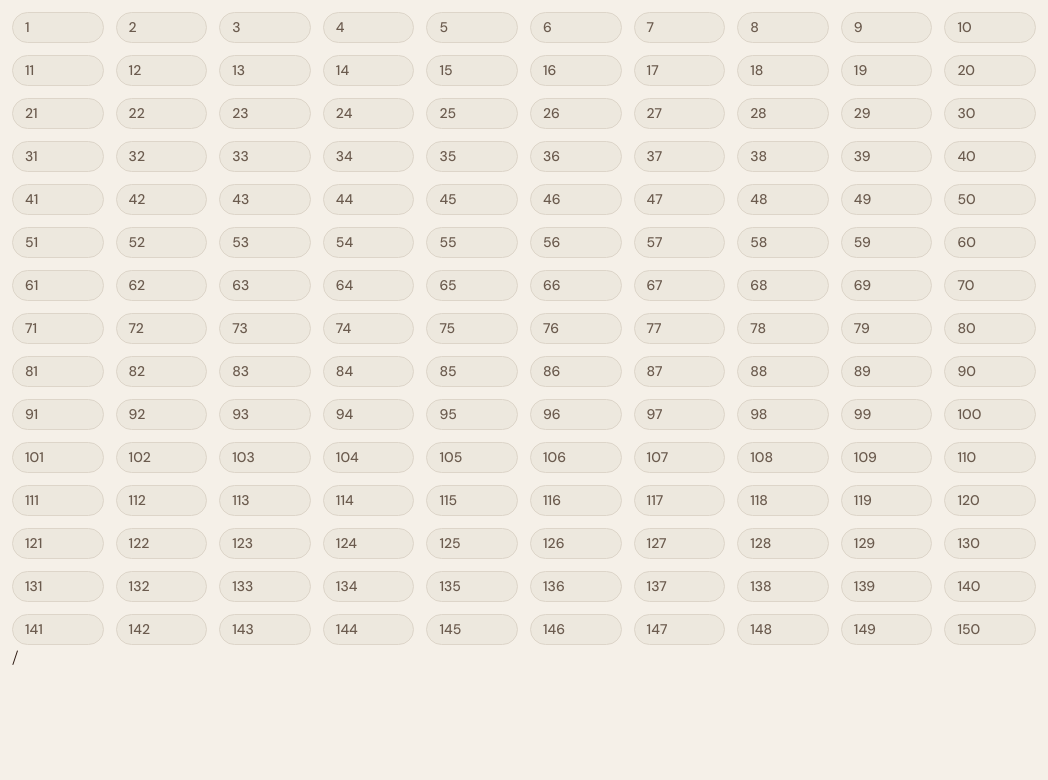
ChapterGrid › clicking a chapter button navigates to /:bookId/:chapter
Click the cell with test id "chapter-btn-23" at (265, 114), box [219, 98, 311, 129]
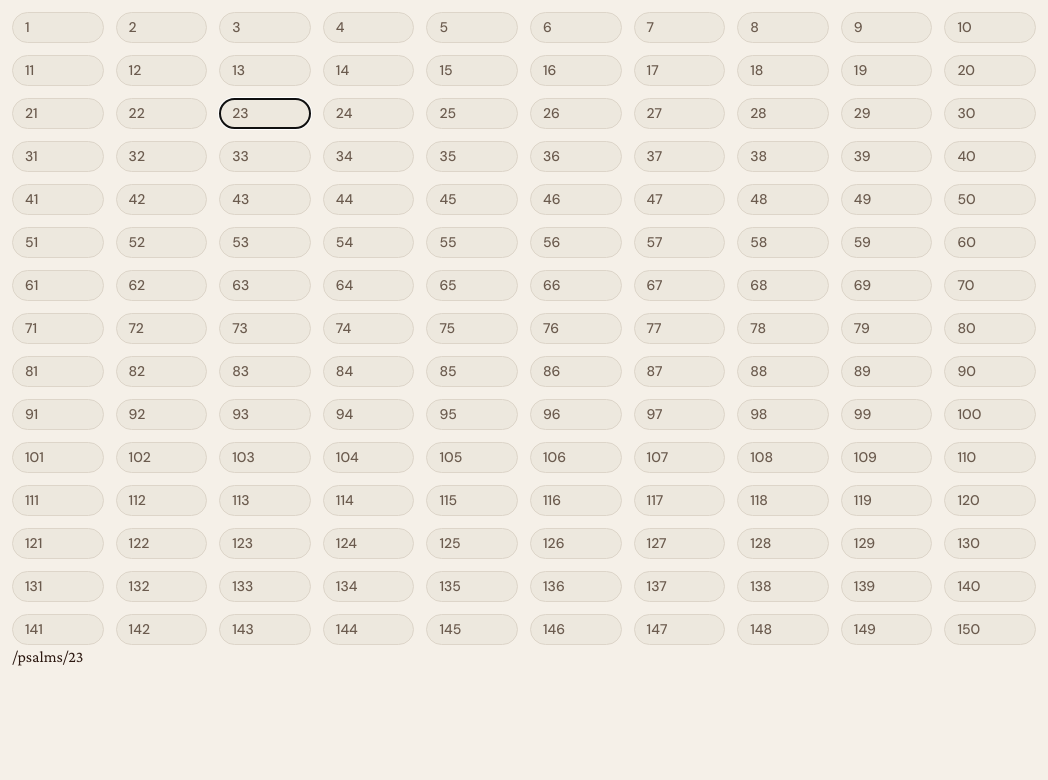
Check: the text with test id "current-path" reads "/psalms/23", box [12, 648, 83, 665]
